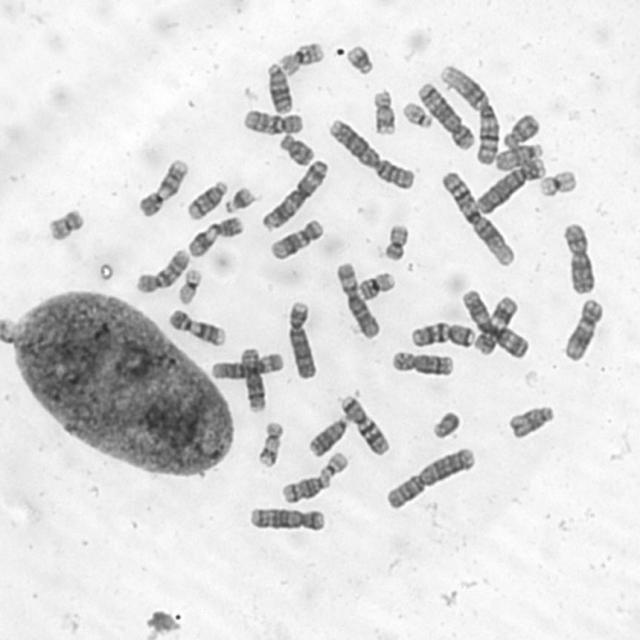A1: (441, 170, 516, 268), (439, 64, 502, 168)
A2: (329, 118, 417, 190), (384, 445, 477, 512)
A3: (260, 157, 330, 234), (461, 287, 532, 360)
B4: (475, 157, 547, 216), (287, 300, 318, 381)
B5: (416, 80, 476, 152), (248, 506, 328, 533)
C10: (135, 247, 192, 295), (241, 107, 304, 135)
C11: (473, 294, 519, 357), (188, 214, 245, 258)
C12: (562, 297, 605, 362), (267, 219, 327, 262)
C6: (334, 261, 382, 340), (211, 352, 285, 382)
C7: (338, 393, 391, 457), (411, 319, 476, 352)
C8: (240, 344, 270, 416), (391, 349, 457, 377)
C9: (137, 159, 190, 216), (166, 308, 228, 348)
D13: (308, 415, 351, 459), (265, 62, 295, 115)
D14: (185, 178, 230, 220), (280, 475, 330, 505)
D15: (504, 402, 560, 442), (492, 140, 548, 172)
E16: (278, 40, 325, 78), (357, 272, 398, 300)
E17: (257, 419, 285, 469), (371, 88, 397, 136)
E18: (502, 112, 542, 150), (279, 132, 316, 170)
F19: (538, 170, 580, 198), (177, 268, 203, 305)
F20: (48, 205, 86, 245), (381, 222, 412, 264)
G21: (346, 43, 380, 76), (224, 187, 258, 214)
G22: (401, 101, 435, 130), (319, 450, 351, 479)
X: (560, 222, 599, 294)
Y: (429, 409, 462, 442)
